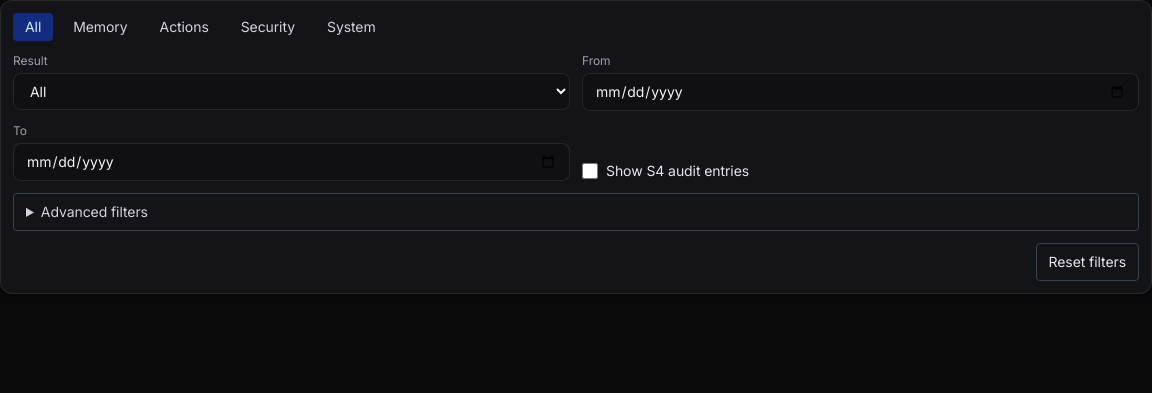
Test: AuditFilters › event type and sensitivity dropdowns are behind Advanced filters
Click the heading "Advanced filters" at (94, 212), box left=41, top=203, right=148, bottom=220
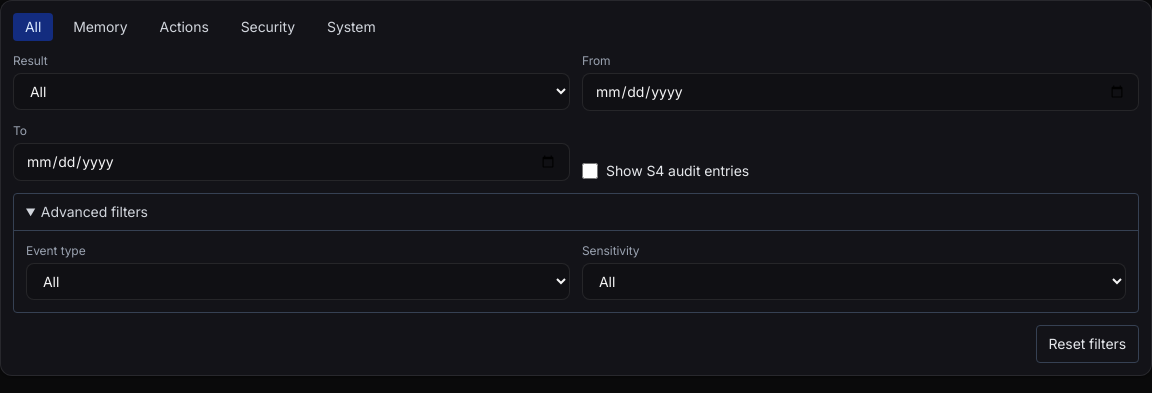
Expected: the dropdown named "audit-event-type" is shown, left=26, top=263, right=570, bottom=300
Expected: the dropdown named "audit-sensitivity" is shown, left=582, top=263, right=1126, bottom=300
